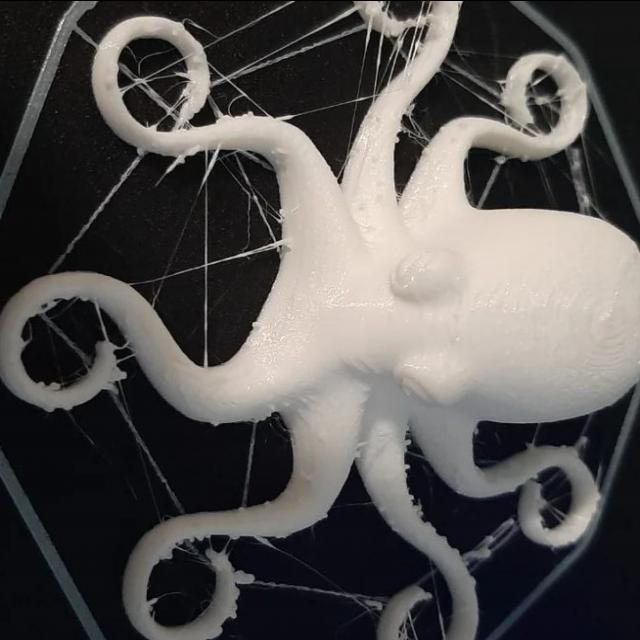Stringing: (218, 0, 368, 92), (234, 569, 388, 617), (228, 159, 283, 259), (368, 29, 421, 74), (472, 523, 512, 565), (126, 66, 176, 88), (145, 84, 175, 114)
